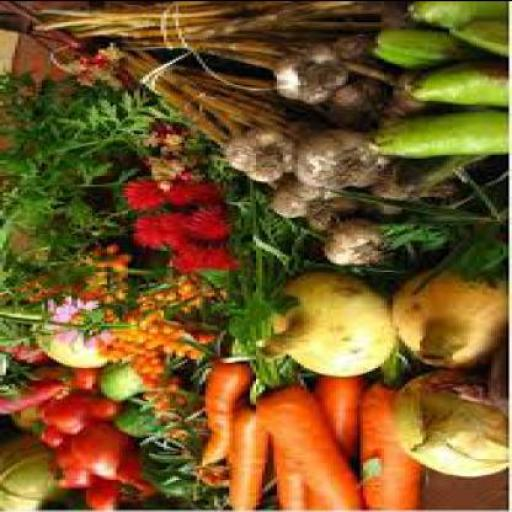biodegradable: (0, 1, 460, 263), (0, 68, 146, 262), (29, 1, 389, 69), (202, 159, 304, 379), (248, 269, 390, 373), (250, 383, 357, 511), (390, 367, 508, 475), (387, 266, 509, 365), (388, 170, 506, 246), (304, 371, 366, 507), (358, 381, 422, 510), (134, 275, 208, 374), (369, 106, 509, 156), (408, 220, 509, 288), (0, 230, 39, 391), (194, 356, 248, 465), (0, 433, 75, 511), (423, 347, 509, 414), (289, 128, 381, 186), (402, 58, 506, 106), (265, 42, 348, 101), (363, 162, 459, 212), (226, 398, 268, 510), (369, 25, 485, 64), (216, 126, 298, 178), (110, 279, 164, 357), (66, 420, 140, 474), (38, 292, 108, 348), (140, 428, 196, 495), (319, 212, 390, 263), (130, 350, 184, 412), (316, 78, 390, 123), (53, 40, 125, 86), (18, 264, 119, 296), (264, 178, 346, 213), (36, 325, 107, 365), (268, 428, 300, 510), (36, 388, 92, 430), (410, 1, 507, 25), (0, 374, 63, 410), (447, 16, 506, 54), (378, 68, 426, 112), (113, 448, 158, 494), (108, 389, 154, 434), (128, 212, 187, 246), (303, 194, 360, 229), (178, 202, 229, 240), (327, 32, 372, 70), (164, 175, 220, 204), (95, 361, 140, 397), (170, 243, 229, 270), (47, 440, 83, 484), (372, 0, 426, 28), (122, 175, 164, 207), (80, 474, 119, 508), (0, 350, 30, 392), (134, 128, 188, 150), (145, 152, 185, 177), (84, 242, 128, 264), (0, 340, 48, 360), (54, 366, 96, 388), (87, 395, 119, 420), (36, 423, 65, 442)
